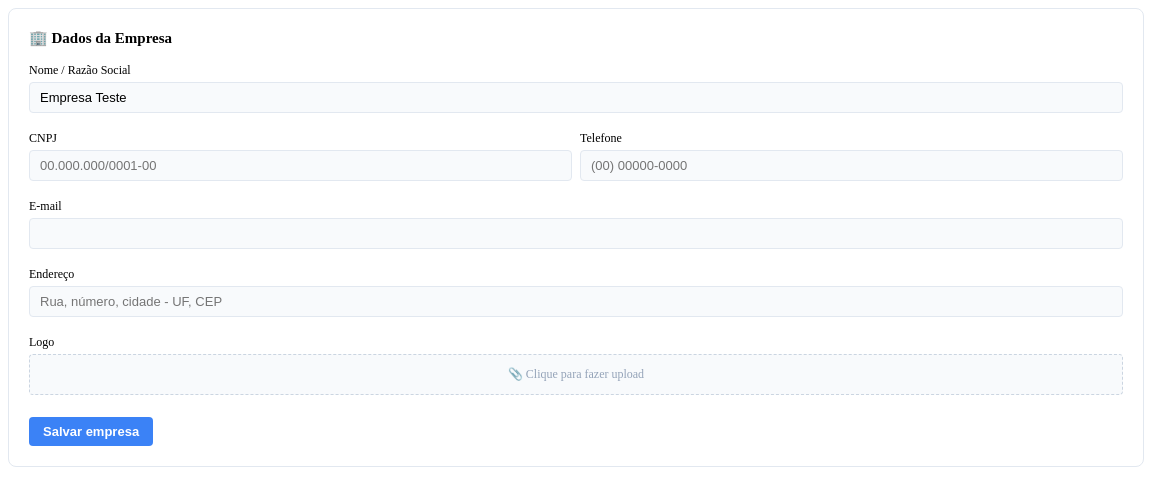
it: EmpresaCard — máscara de telefone › formats 11-digit phone
Type "11999990000" into the field with placeholder "(00) 00000-0000" at (852, 166), box [580,150,1123,181]
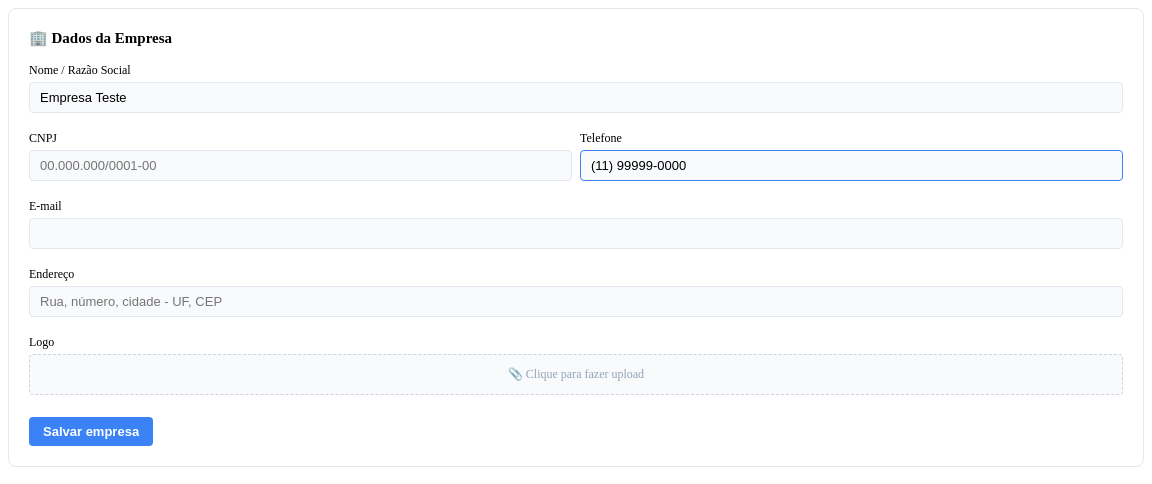
Check: the field with placeholder "(00) 00000-0000" below "Telefone" holds "(11) 99999-0000", box [580,150,1123,181]
